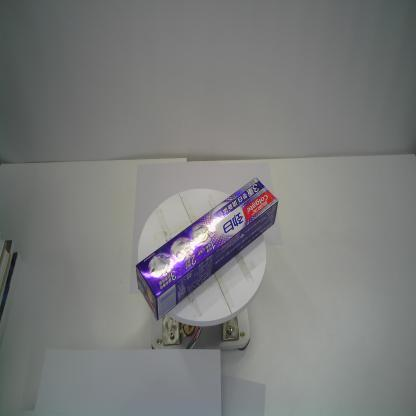Personal Hygiene: (134, 176, 280, 323)
